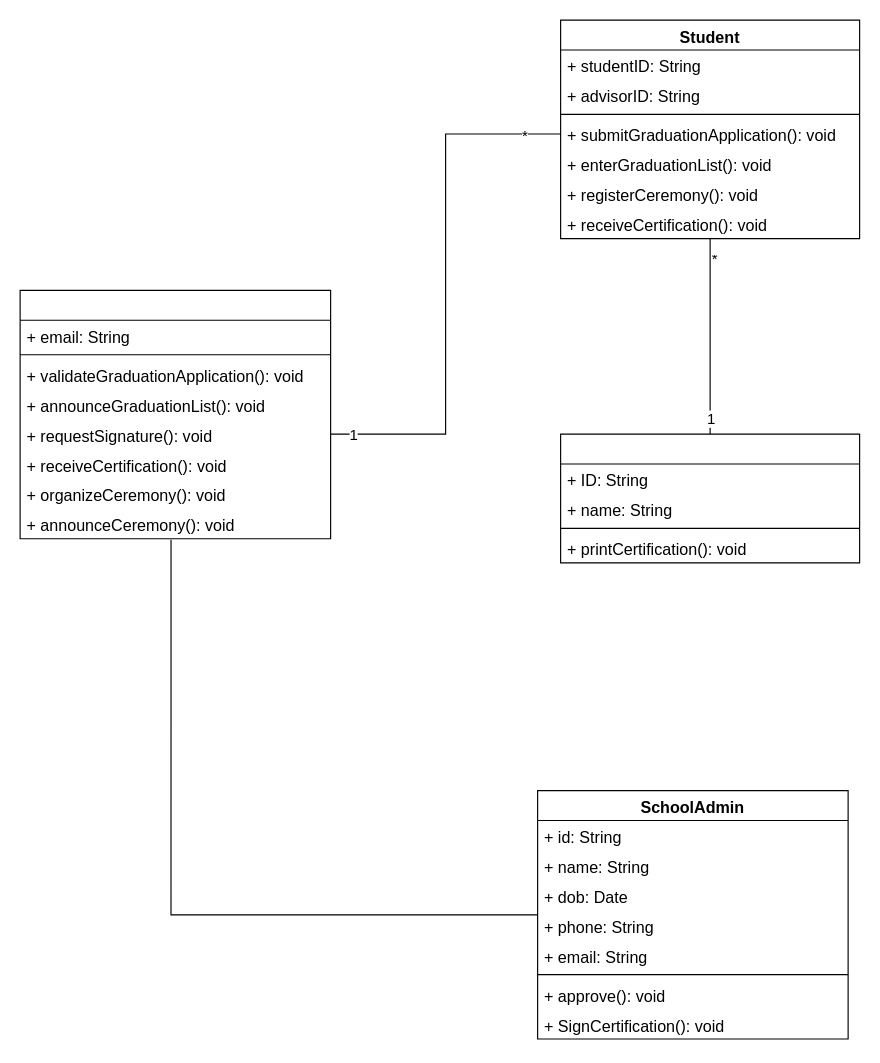
Some shapes in this 880 by 1063 pixel diagram are drawn without their labels. The shapes that lost their labels are listed below. From the top down, each one's box as (x1, y1, x2, y2) in pixels, then its label:
(19, 289, 331, 539): OAA
(559, 433, 860, 563): Department
